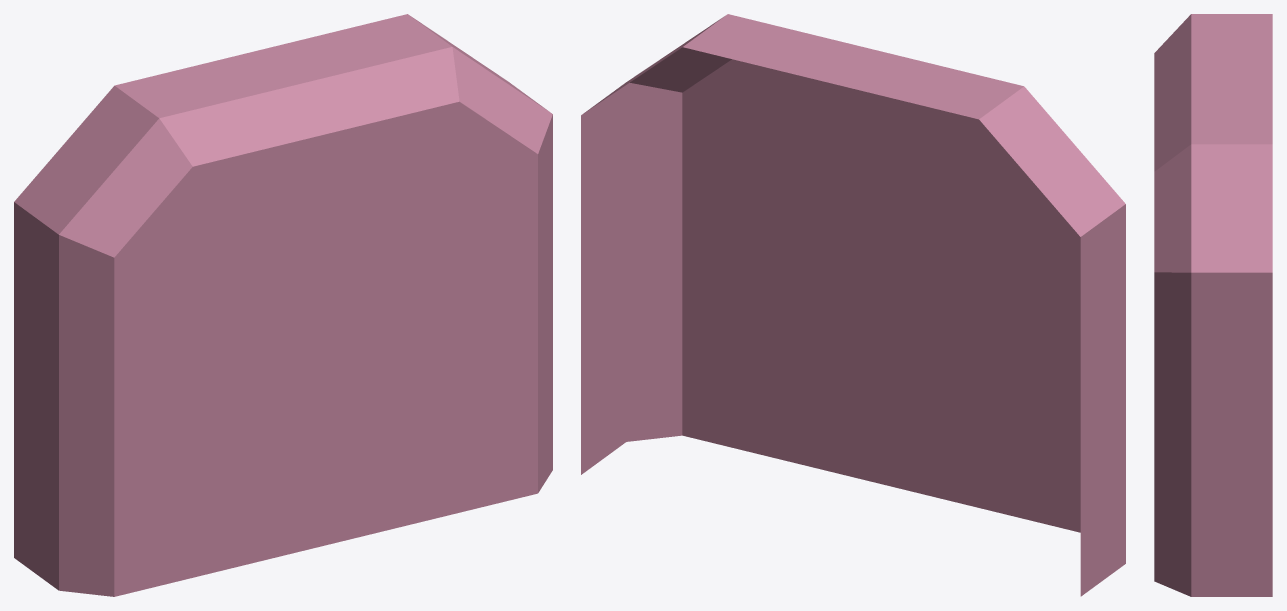
File: CardDispencer.fbx
3 views of the same model, side by side, from view 1: azimuth 30°, elevation 25°; view 2: azimuth 150°, elevation 25°; view 3: azimuth 270°, elevation 25° (orthographic). The views are drawn at different scales.
Visible parts, largest first — view 1: CardDis; view 2: CardDis; view 3: CardDis.
Boxes of the visible parts, left/top/right/bottom form: CardDis: left=14, top=14, right=552, bottom=596; CardDis: left=581, top=14, right=1125, bottom=596; CardDis: left=1154, top=14, right=1272, bottom=596.
Bounding box in the file's own units: 438 × 380 × 100.
